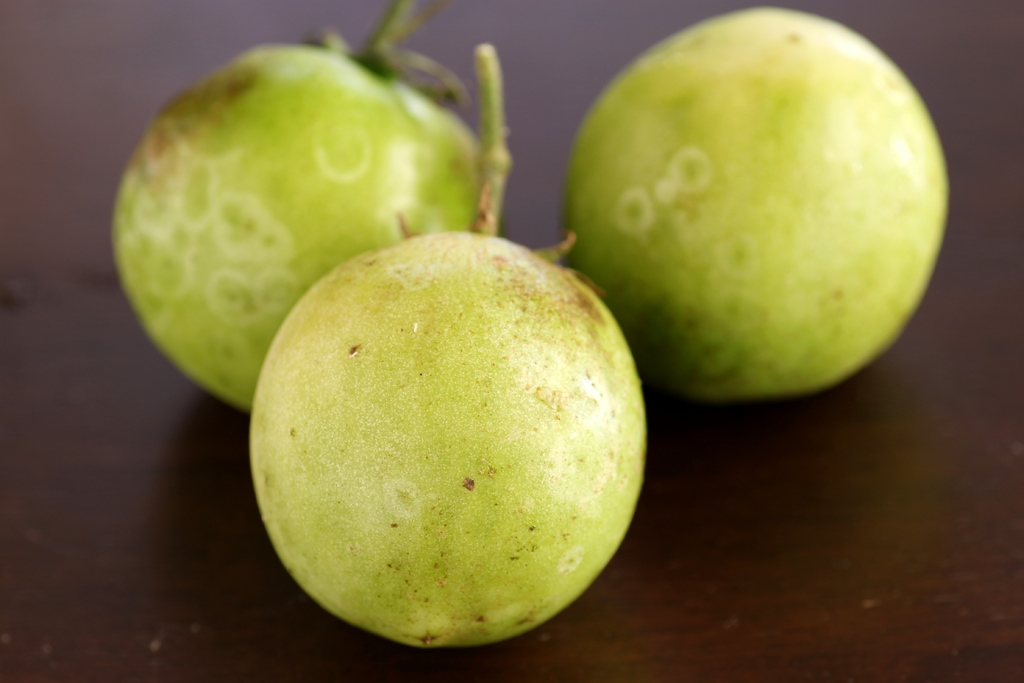Apple: (242, 46, 650, 649), (105, 0, 486, 413), (560, 3, 946, 399)
